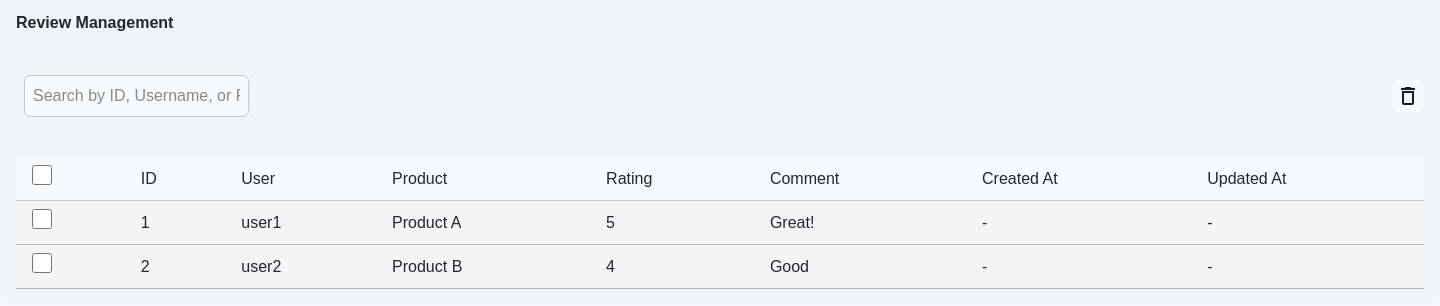
Scenario: ReviewTable › shows alert if trying to delete with nothing selected
Click the button titled "delete selected review": [1408, 96] box [1392,80,1424,112]
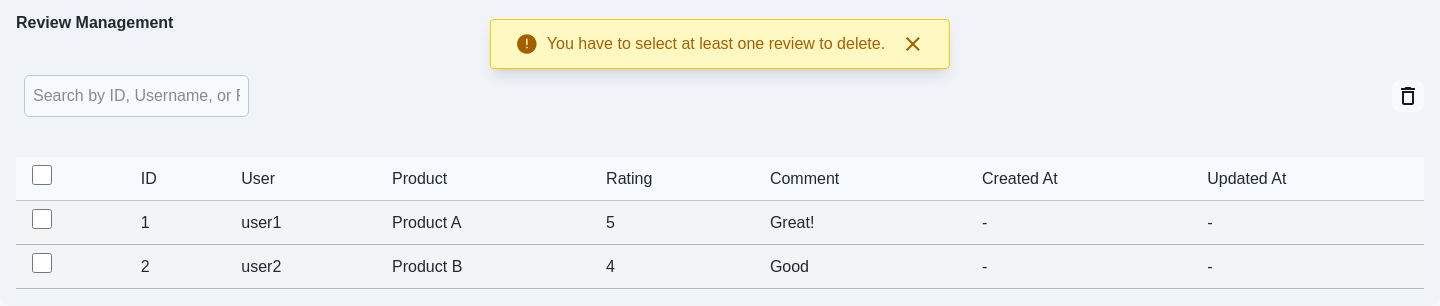
Check: the text "You have to select at least one review to delete." is shown, box [547,32,885,56]
